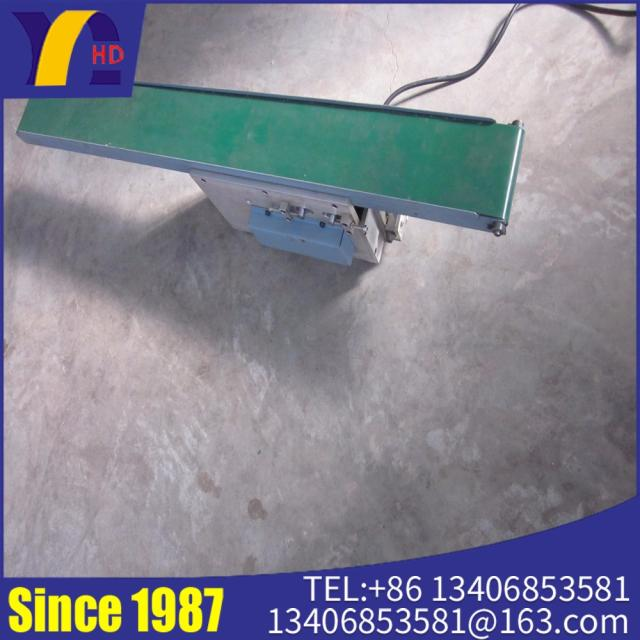conveyor: (5, 44, 600, 295)
